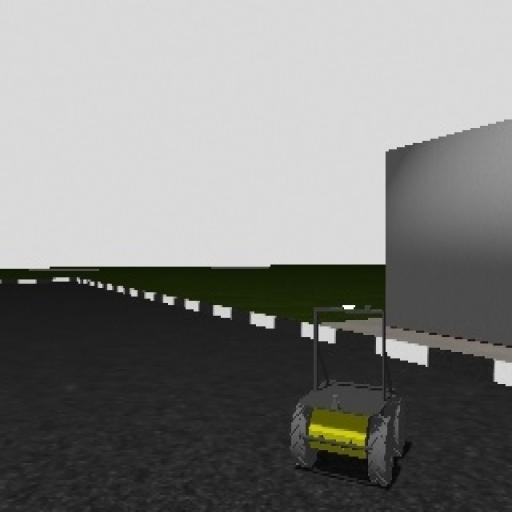huskya200: (273, 289, 408, 493)
